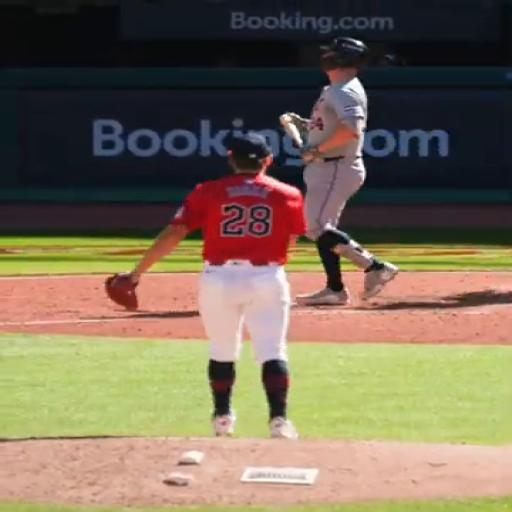bat: (279, 114, 304, 147)
